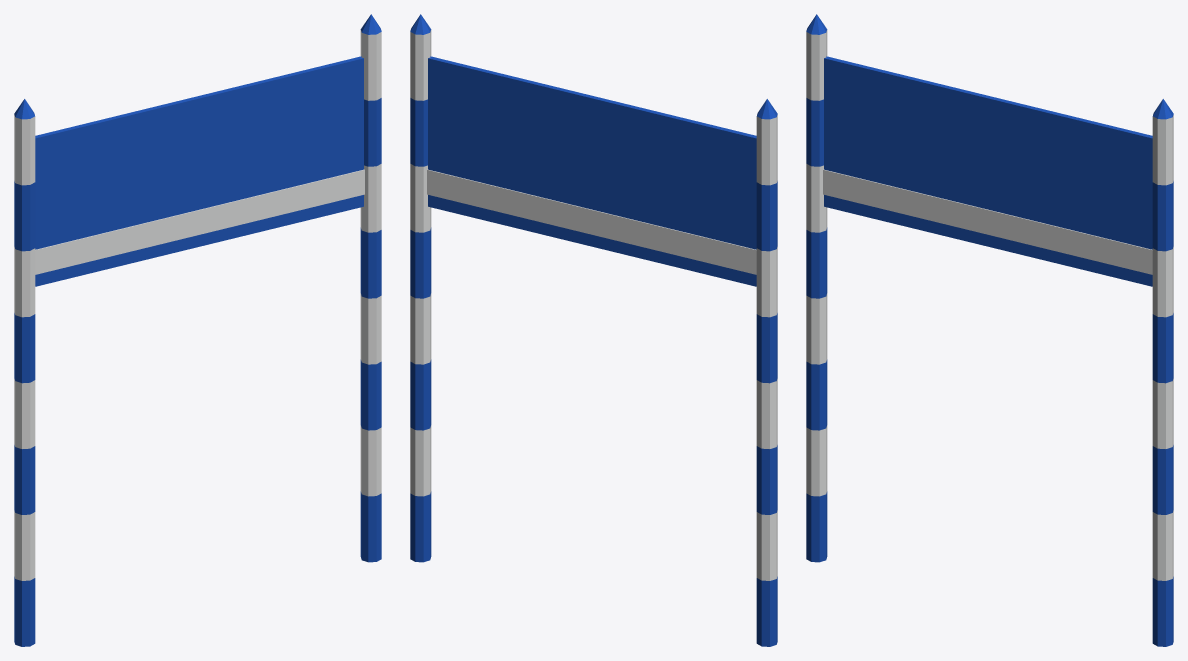
File: slalom_blue.glb
3 renders of one model, left to right at view 1: azimuth 30°, elevation 25°; view 2: azimuth 150°, elevation 25°; view 3: azimuth 330°, elevation 25°, orthographic.
Visible parts, largest first — view 1: slalom_blue; view 2: slalom_blue; view 3: slalom_blue.
Part boxes in pixels (x1=…): slalom_blue: x1=14, y1=14, x2=381, y2=646; slalom_blue: x1=410, y1=14, x2=777, y2=646; slalom_blue: x1=806, y1=14, x2=1173, y2=646.
Bounding box in the file's own units: 4.64 × 6.6 × 0.24.
1 material, 1 textured.
